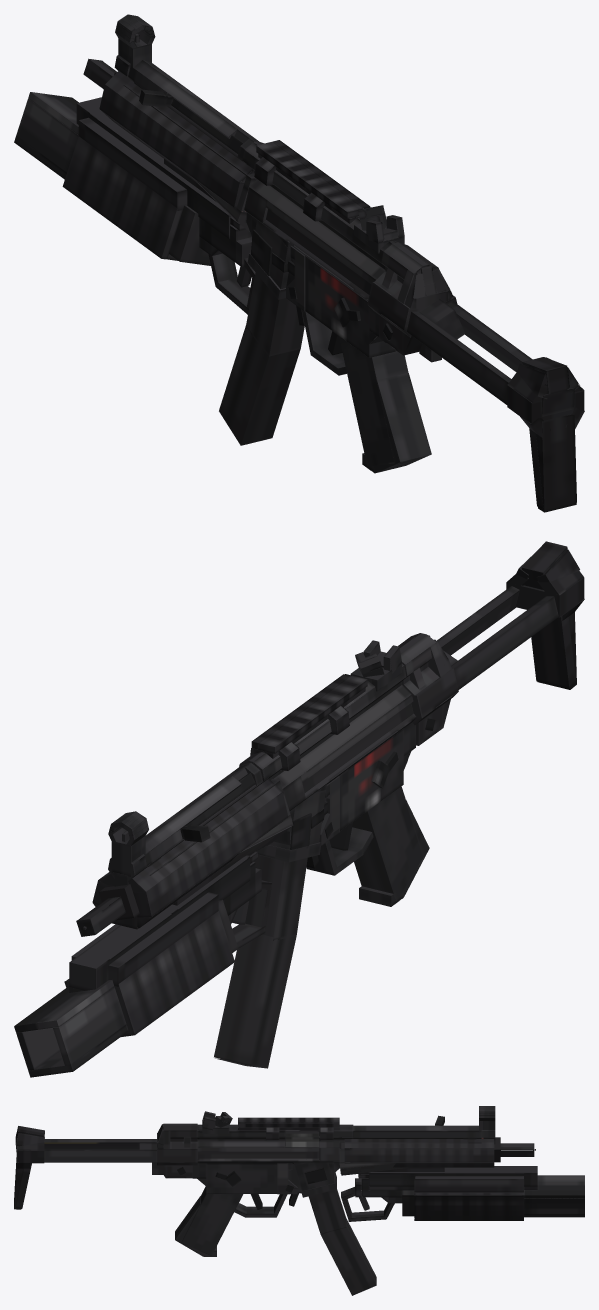
3 renders of one model, top to bottom at view 1: azimuth 30°, elevation 25°; view 2: azimuth 150°, elevation 25°; view 3: azimuth 270°, elevation 25°, orthographic. The views are drawn at different scales.
Parts seen in each view (by area): view 1: gun, launcherchamber, magazine, launcher, mp5sd, rail, frontsight, bolt, handguard; view 2: gun, launcherchamber, magazine, mp5sd, launcher, rail, frontsight, handguard, bolt; view 3: gun, launcherchamber, mp5sd, launcher, magazine, rail, handguard, action, frontsight, underrail.
Part boxes in pixels (left/top/right/bottom): gun: left=83, top=55, right=584, bottom=512; launcherchamber: left=14, top=92, right=187, bottom=260; magazine: left=219, top=272, right=304, bottom=445; launcher: left=76, top=97, right=255, bottom=314; mp5sd: left=99, top=71, right=254, bottom=209; rail: left=254, top=140, right=370, bottom=223; frontsight: left=115, top=14, right=155, bottom=67; bolt: left=139, top=89, right=243, bottom=154; handguard: left=123, top=84, right=256, bottom=232; gun: left=76, top=541, right=584, bottom=936; launcherchamber: left=14, top=892, right=234, bottom=1077; magazine: left=214, top=855, right=307, bottom=1068; mp5sd: left=92, top=778, right=288, bottom=929; launcher: left=69, top=855, right=271, bottom=992; rail: left=250, top=674, right=367, bottom=770; frontsight: left=108, top=811, right=148, bottom=876; handguard: left=149, top=779, right=293, bottom=875; bolt: left=180, top=773, right=255, bottom=842; gun: left=14, top=1111, right=534, bottom=1256; launcherchamber: left=414, top=1173, right=584, bottom=1220; mp5sd: left=344, top=1137, right=500, bottom=1167; launcher: left=341, top=1166, right=537, bottom=1221; magazine: left=308, top=1189, right=376, bottom=1295; rail: left=238, top=1117, right=339, bottom=1140; handguard: left=339, top=1140, right=481, bottom=1175; action: left=285, top=1131, right=319, bottom=1147; frontsight: left=479, top=1106, right=495, bottom=1131; underrail: left=358, top=1167, right=444, bottom=1178.
Size of the model in its own units: 41.28 by 189 by 527.
